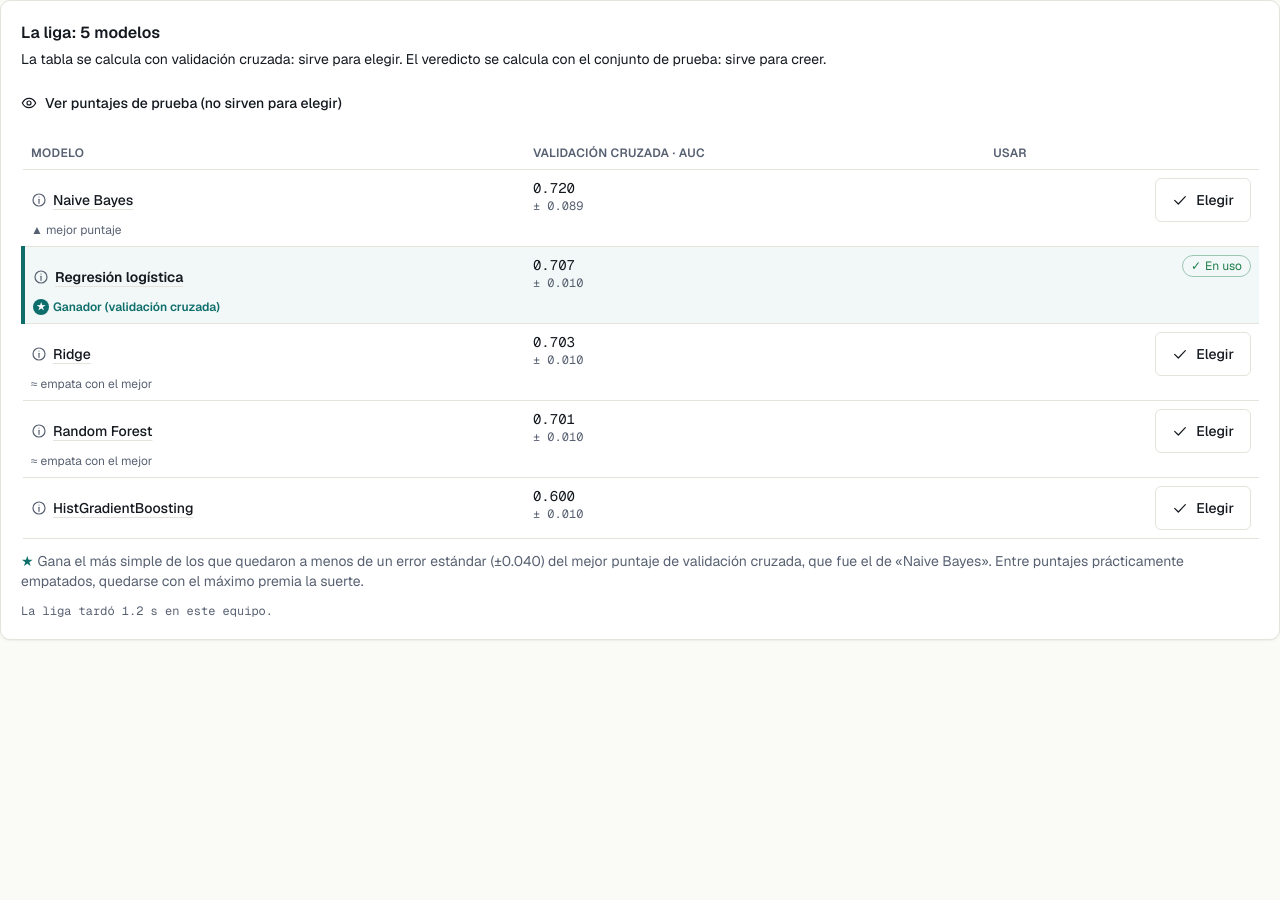
Test: LeagueTable › la prueba se abre a pedido, rotulada «no sirve para elegir», con su advertencia
expect the text "Estos puntajes son del conjunto de prueba" is not shown: met
Click the button "Ver puntajes de prueba (no sirven para elegir)": click(181, 103) [5, 81, 358, 125]
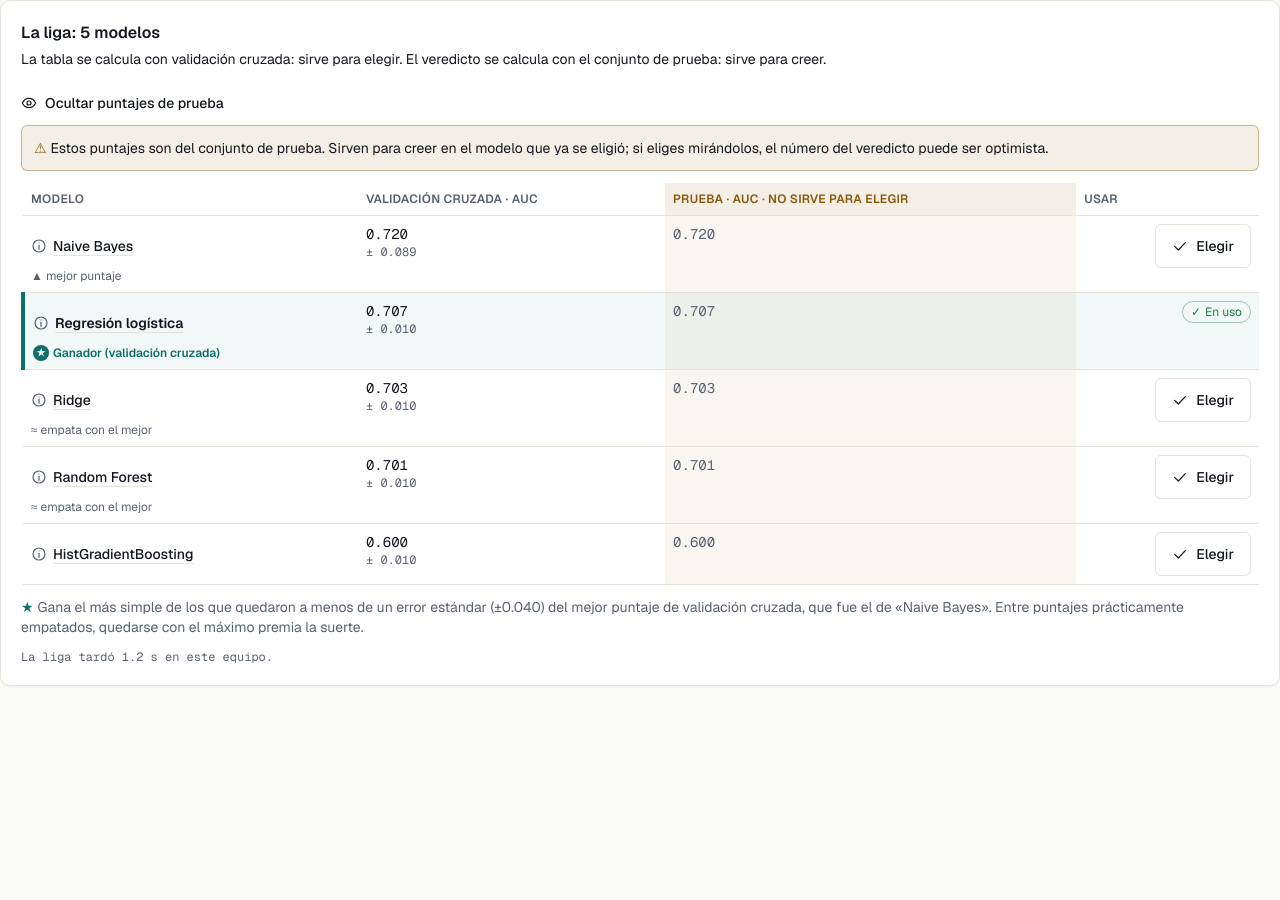
expect the text "Estos puntajes son del conjunto de prueba" is shown: met, box [51, 139, 1048, 157]
expect the column heading "Prueba · AUC · no sirve para elegir" is shown: met, box [665, 183, 1076, 216]
expect the button "Ocultar puntajes de prueba" is expanded: met, box [5, 81, 240, 125]
